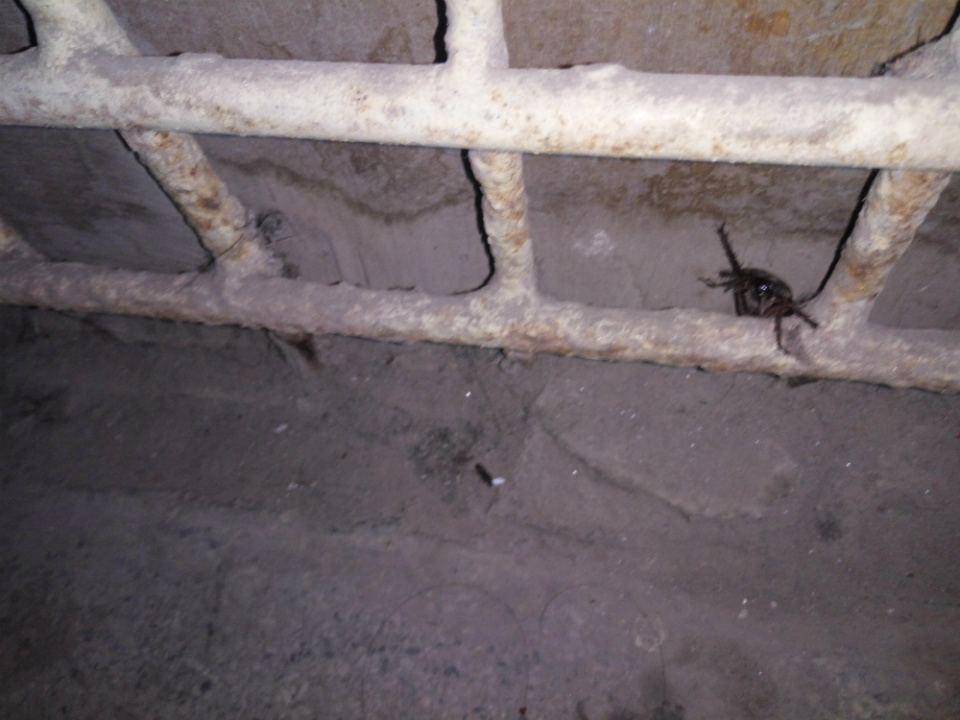cockroach: (681, 213, 832, 358)
